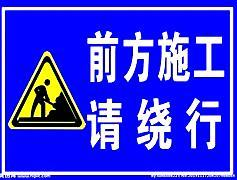sign: (2, 3, 234, 177)
